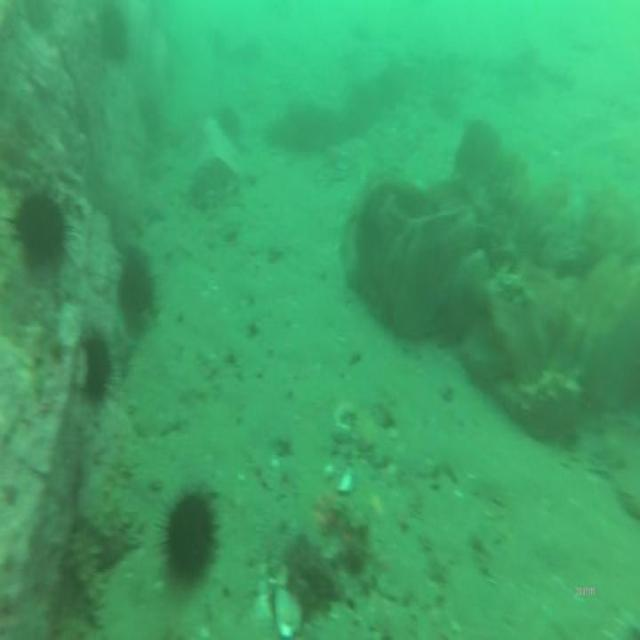echinus: (151, 474, 228, 601), (3, 180, 78, 275), (108, 235, 160, 332), (75, 322, 129, 412), (96, 0, 128, 68)
holothurian: (82, 487, 146, 569), (61, 531, 106, 634)
